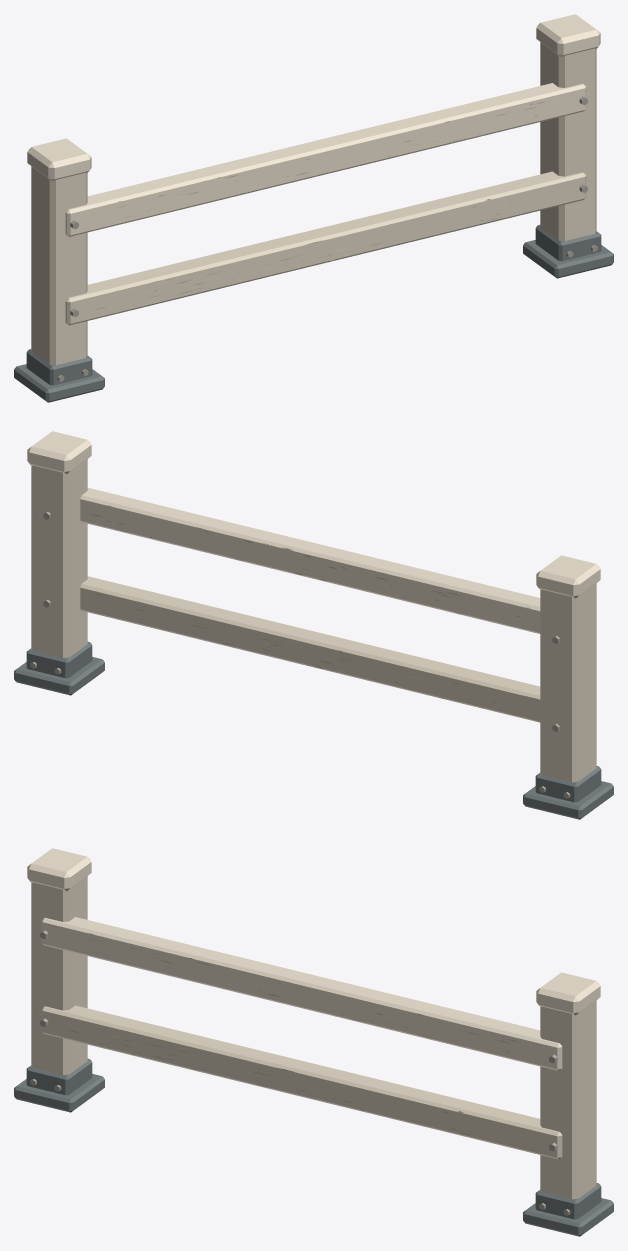
File: wsc-module-011-riding-fence.glb
The picture shows the model from 3 angles, top to bottom: view 1: azimuth 30°, elevation 25°; view 2: azimuth 150°, elevation 25°; view 3: azimuth 330°, elevation 25°; orthographic projection.
Parts seen in each view (by area): view 1: Whitewash, Whitewash warm, Fence base iron, Whitewash weathered; view 2: Whitewash, Whitewash warm, Fence base iron, Whitewash weathered; view 3: Whitewash, Whitewash warm, Fence base iron, Whitewash weathered.
Part boxes in pixels (x1,y1,x2,y2): Whitewash: (31, 42, 596, 365); Whitewash warm: (27, 14, 600, 329); Fence base iron: (14, 224, 613, 402); Whitewash weathered: (96, 101, 547, 309); Whitewash: (31, 459, 596, 782); Whitewash warm: (27, 431, 600, 747); Fence base iron: (14, 641, 613, 819); Whitewash weathered: (89, 513, 539, 716); Whitewash: (31, 876, 596, 1199); Whitewash warm: (27, 848, 600, 1164); Fence base iron: (14, 1058, 613, 1236); Whitewash weathered: (67, 938, 517, 1135).
Size of the model in its own units: 3.14 by 1.24 by 0.33.
